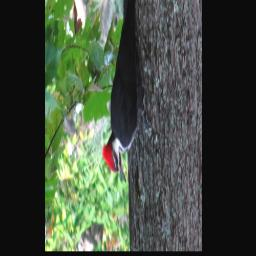Woodpecker: (101, 0, 152, 184)
